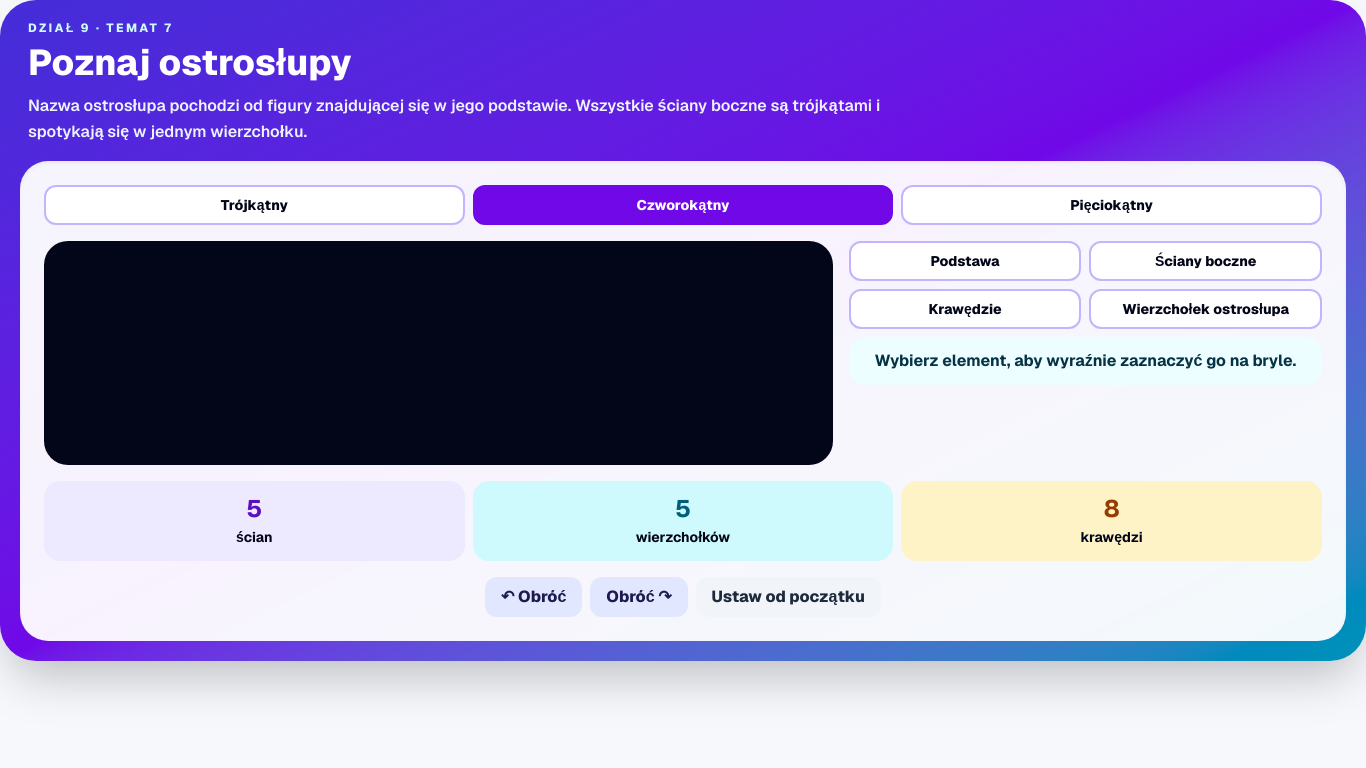
Test: PyramidLessonLab › pokazuje różne ostrosłupy, ich elementy i informację o czworościanie
This screenshot has width=1366, height=768.
Expected: the picture named "ostrosłup czworokątny" is shown, [44,241,833,465]
Expected: the button "Podstawa" is shown, [849,241,1081,281]
Click the button "Trójkątny". click: (254, 205)
box: [44,185,465,225]
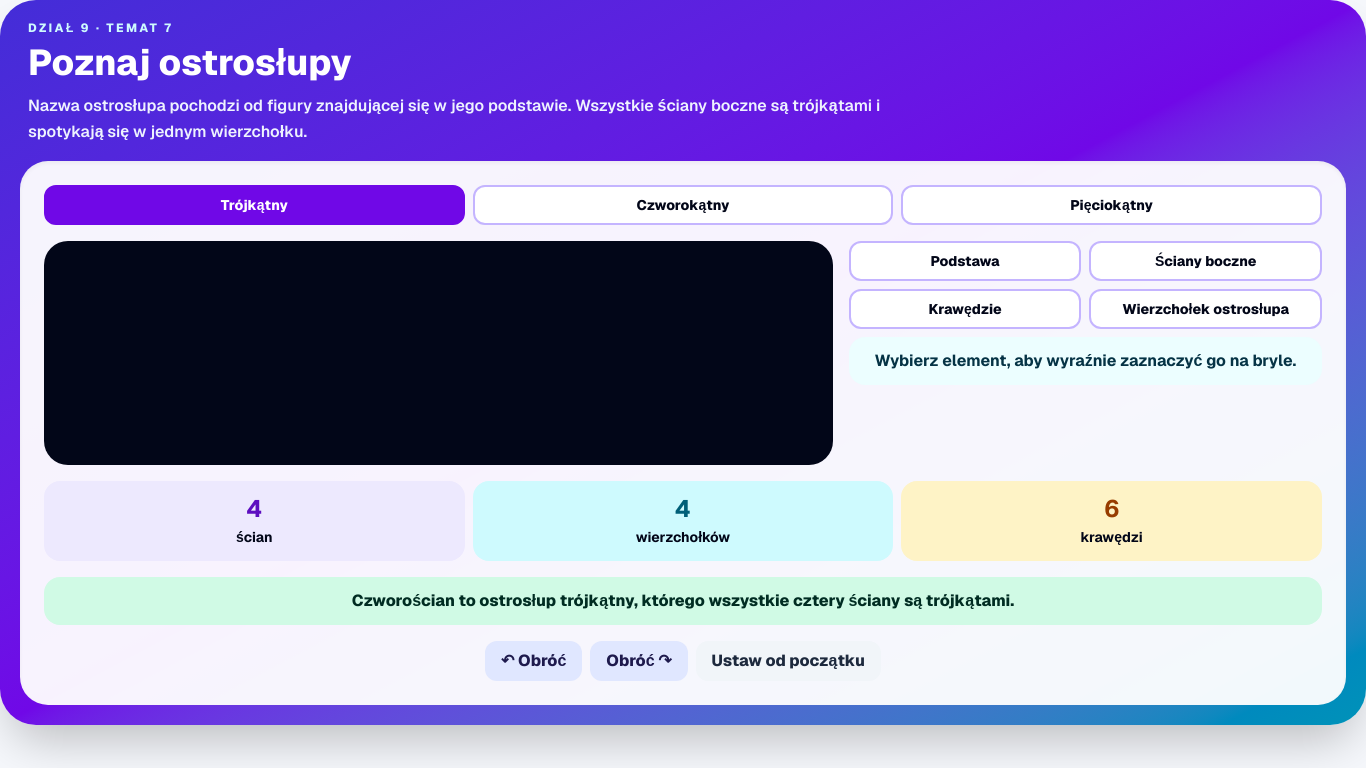
Expected: the text "Czworościan to ostrosłup trójkątny" is shown, [352,590,1014,611]
